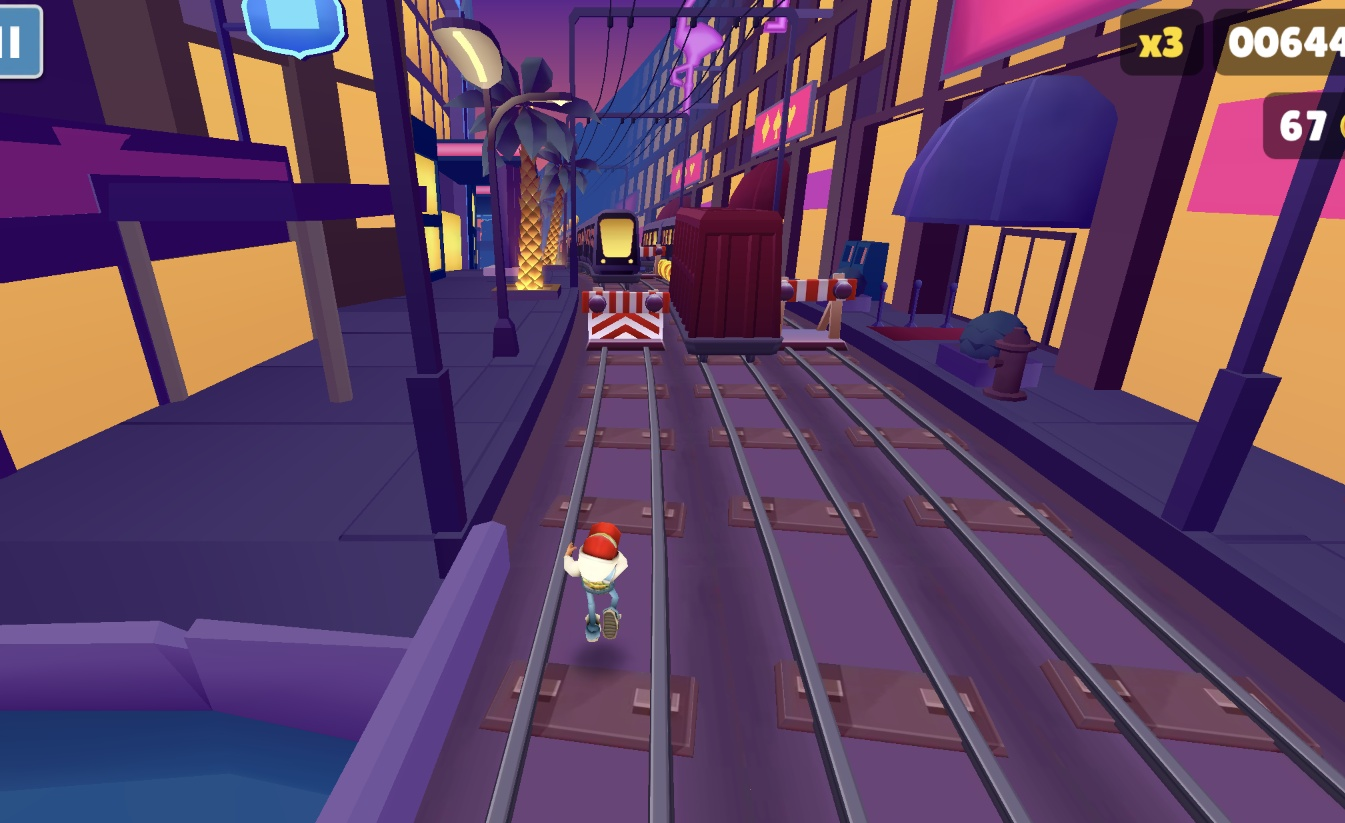ground_barrier: (580, 287, 672, 357), (774, 276, 860, 350), (639, 245, 665, 279)
train: (672, 208, 786, 359), (584, 209, 646, 285), (645, 207, 684, 275)
